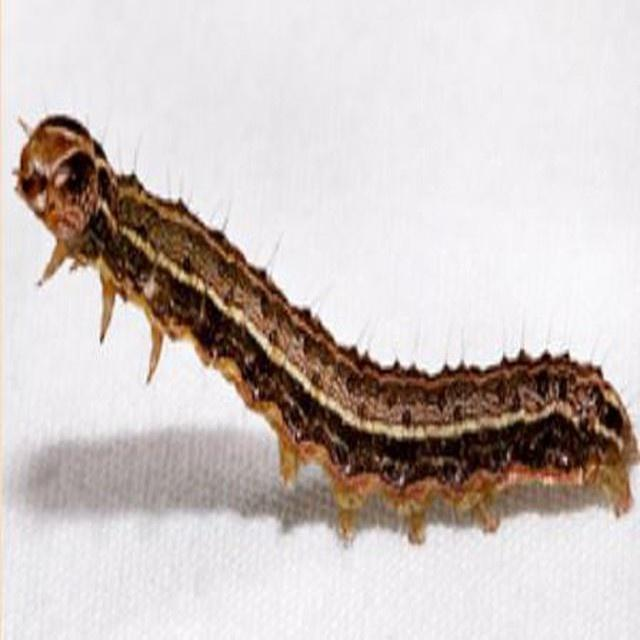gusano_cogollero: (6, 113, 640, 548)
